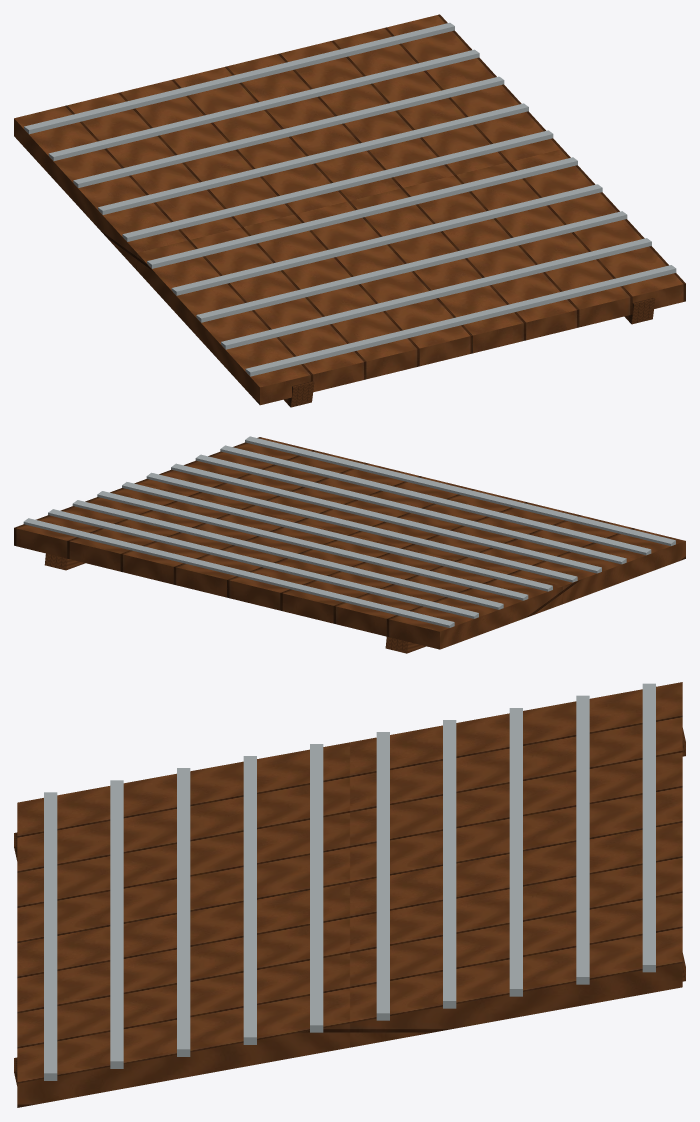
Rendered from roadside-survival-stops-service-bay-ramp-baa99f0b__23525.glb.
3 renders of one model, top to bottom at view 1: azimuth 30°, elevation 25°; view 2: azimuth 150°, elevation 25°; view 3: azimuth 270°, elevation 25°, orthographic. The views are drawn at different scales.
Visible parts, largest first — view 1: service-bay-ramp; view 2: service-bay-ramp; view 3: service-bay-ramp.
Boxes of the visible parts, x1=… form: service-bay-ramp: x1=14, y1=14, x2=685, y2=407; service-bay-ramp: x1=14, y1=436, x2=685, y2=653; service-bay-ramp: x1=14, y1=682, x2=685, y2=1107.
Bounding box in the file's own units: 2 × 0.5291 × 2.02.
Materials: 2 (1 with a texture image).
